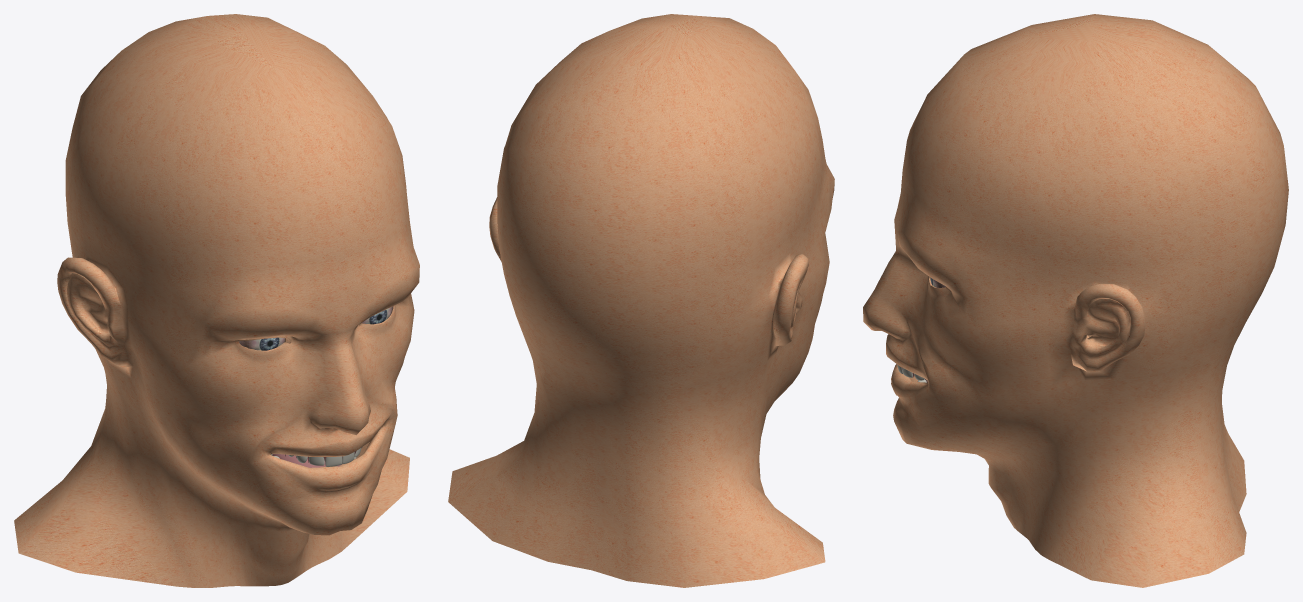
The model's file is smile_b.FBX.
3 renders of one model, left to right at view 1: azimuth 30°, elevation 25°; view 2: azimuth 150°, elevation 25°; view 3: azimuth 270°, elevation 25°, orthographic. The views are drawn at different scales.
Parts seen in each view (by area): view 1: head; view 2: head; view 3: head.
Boxes of the visible parts, bbox=[...] form: head: bbox=[14, 14, 419, 587]; head: bbox=[448, 14, 834, 587]; head: bbox=[863, 14, 1288, 587].
Size of the model in its own units: 44.22 by 43.6 by 56.51.
Materials: 4 (2 with a texture image).
